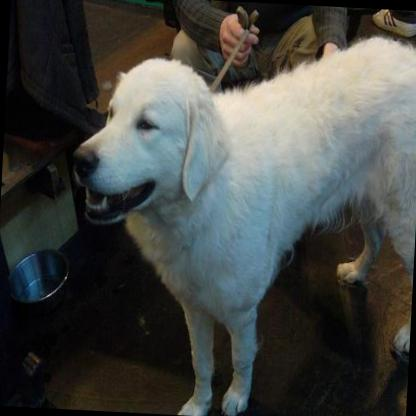kuvasz: (58, 17, 416, 416)
